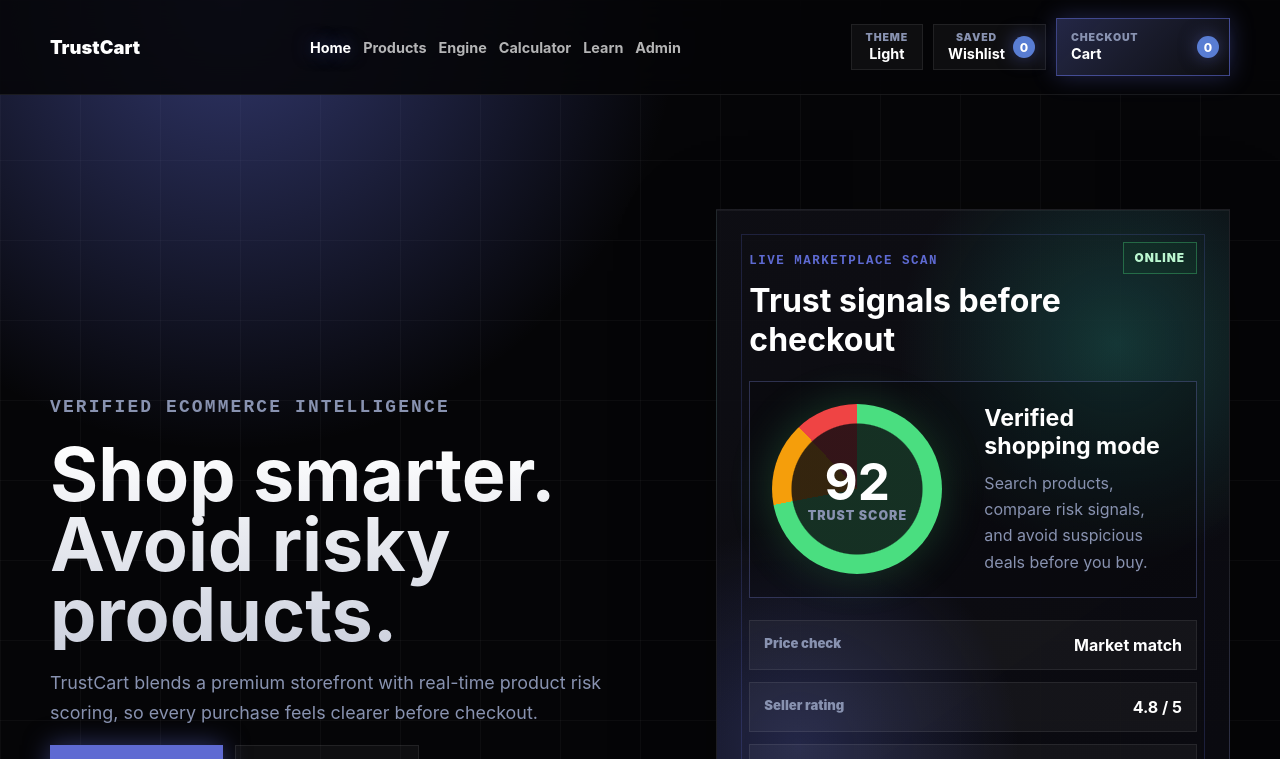
Test: fetches matching products from the backend when searching a new product
This screenshot has width=1280, height=759.
Click the link "Products" at (395, 47), box [363,38,427,56]
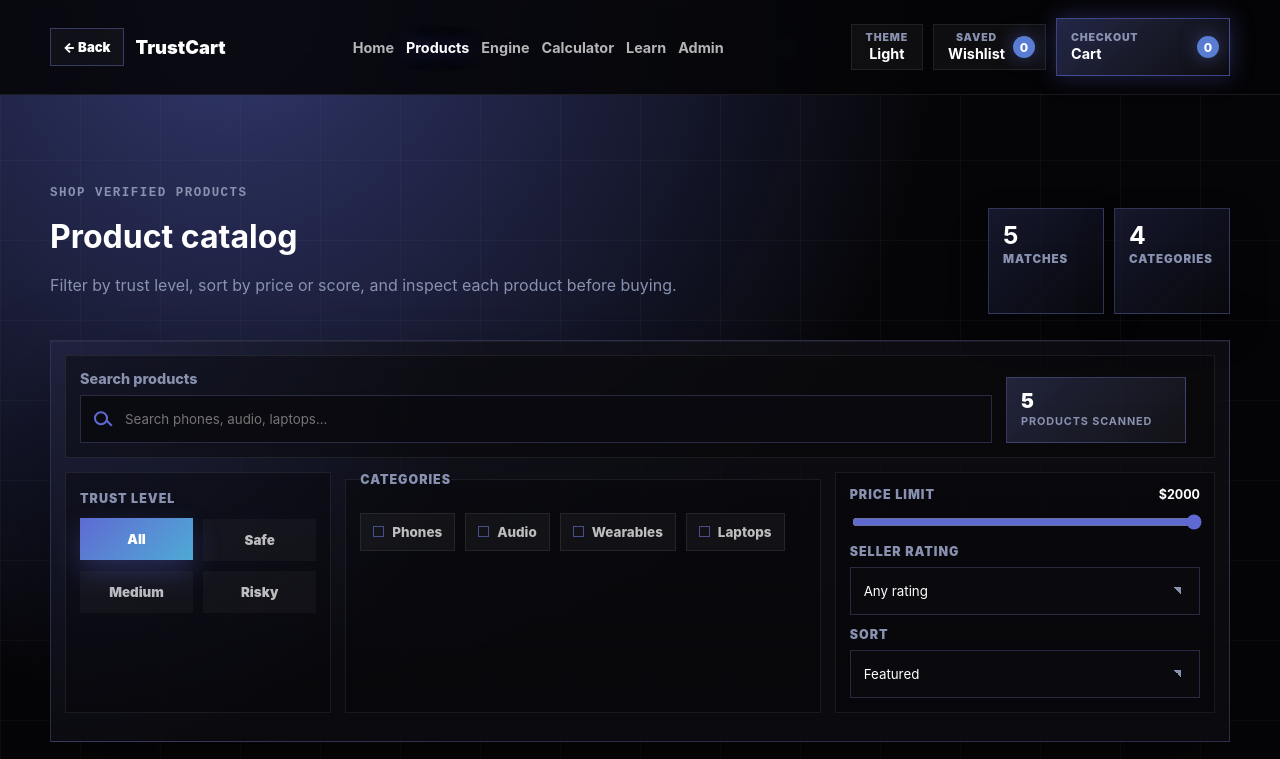
Type "headphones" into the search field labelled "Search products" at (536, 419), box [80,395,992,443]
(page scrolled)
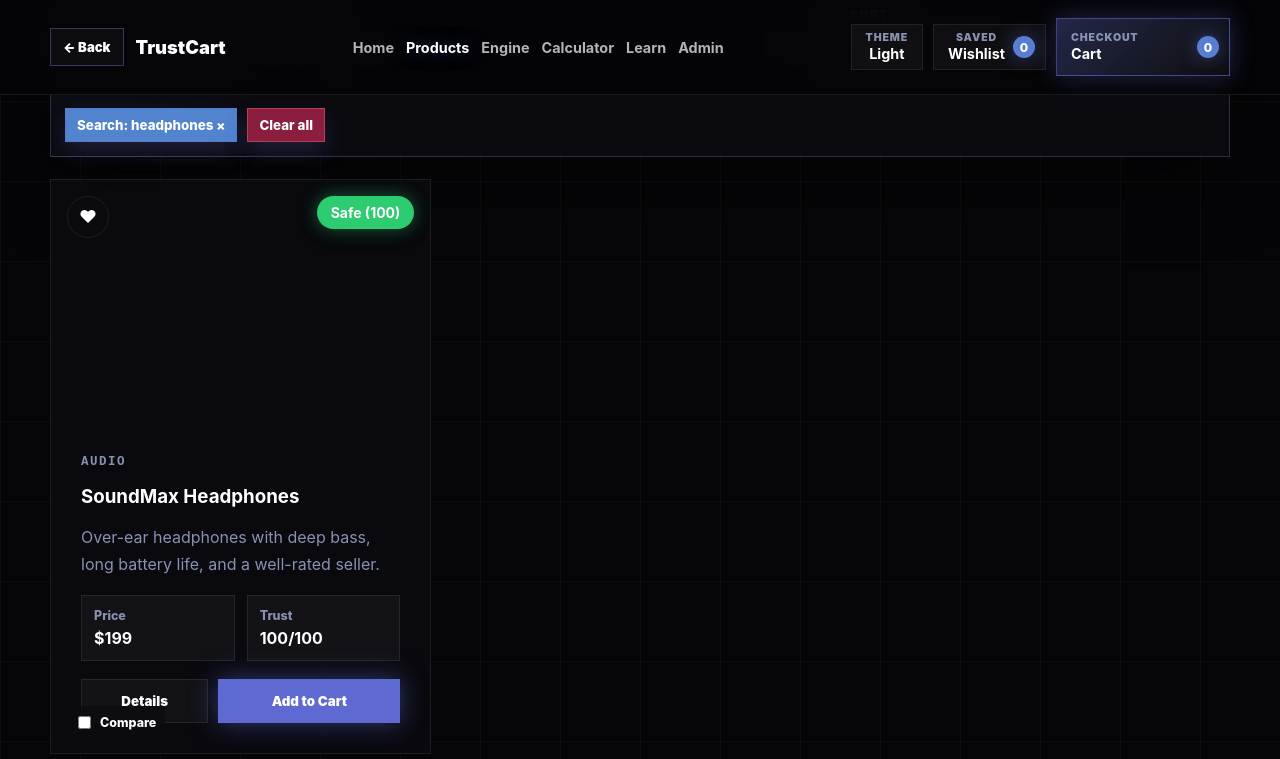
Now the heading "SoundMax Headphones" is shown, box [81,486,300,508]
